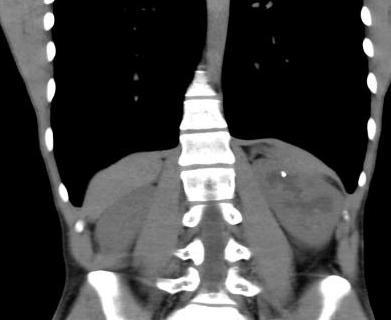Tas_Var: (280, 173, 286, 178), (280, 171, 286, 174)
